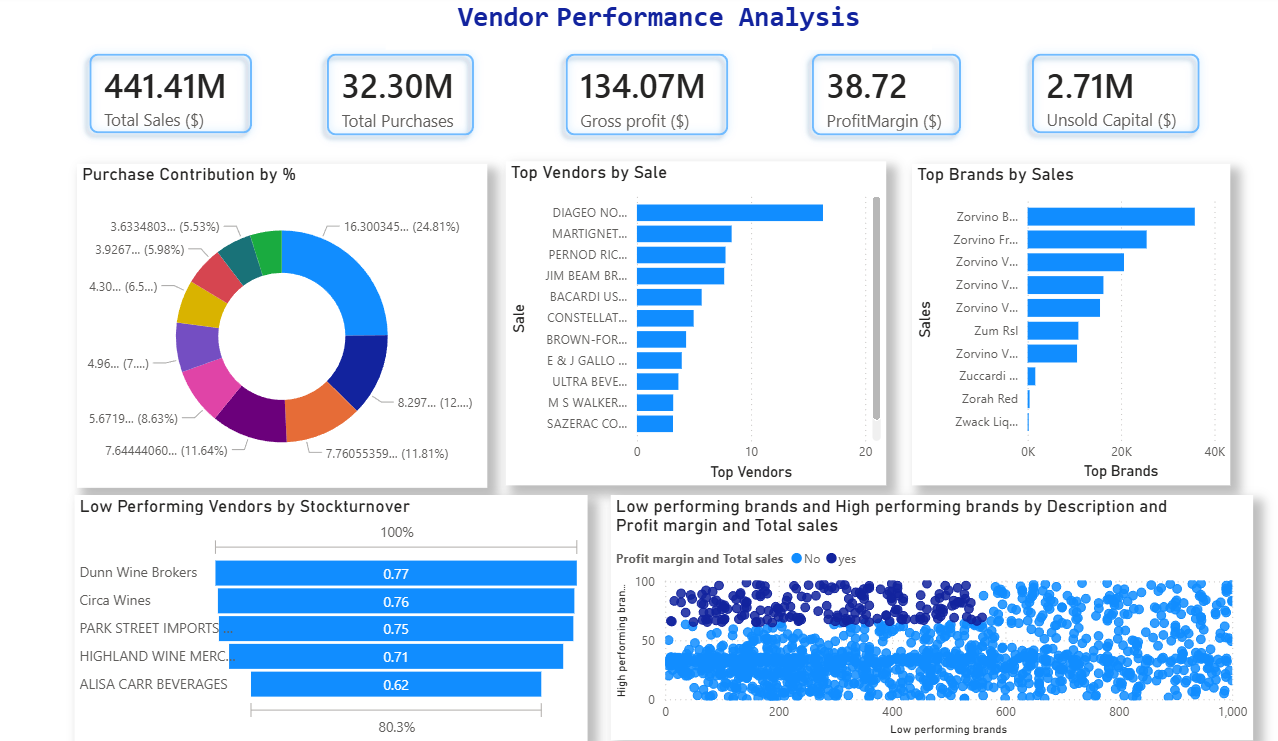

The page's visual inventory and layout, read from the dashboard file:
{"tool":"powerbi","page":{"name":"Page 1","canvas":[1280,720],"ordinal":0},"visuals":[{"type":"cardVisual","fields":{"Data":["Sum(vendor_sales_summary.TotalSalesDollars)"]},"box":[60,27.5,215,135],"z":0},{"type":"cardVisual","fields":{"Data":["Sum(vendor_sales_summary.TotalPurchaseQuantity)"]},"box":[290,27.5,200,137.5],"z":1000},{"type":"cardVisual","fields":{"Data":["Sum(vendor_sales_summary.GrossProfit)"]},"box":[520,27.5,215,137.5],"z":2000},{"type":"cardVisual","fields":{"Data":["Avg(vendor_sales_summary.ProfitMargin)"]},"box":[757.5,27.5,202.5,137.5],"z":3000},{"type":"cardVisual","fields":{"Data":["Sum(vendor_sales_summary.UnsoldCapital)"]},"box":[970,27.5,220,135],"z":3500},{"type":"donutChart","fields":{"Y":["Sum(PurchaseContribution.purchaseContribution%)"],"Category":["PurchaseContribution.VendorName"]},"box":[77.1,162.9,395.7,312.9],"z":4000},{"type":"clusteredBarChart","fields":{"Category":["PurchaseContribution.VendorName"],"Y":["Sum(PurchaseContribution.purchaseContribution%)"]},"box":[491.4,160,367.1,312.9],"z":6000},{"type":"clusteredBarChart","fields":{"Category":["vendor_sales_summary.Description"],"Y":["Sum(vendor_sales_summary.TotalSalesDollars)"]},"box":[882.9,162.9,307.1,310],"z":7000},{"type":"funnel","fields":{"Category":["Low_performing_vendors.VendorName"],"Y":["Avg(Low_performing_vendors.AvgStockturnover)"]},"box":[75,482.5,495,237.5],"z":8000},{"type":"scatterChart","fields":{"Category":["BrandPerformance.Description"],"X":["Sum(BrandPerformance.TotalSales)"],"Y":["Sum(BrandPerformance.AvgProfitMargin)"],"Series":["BrandPerformance.Target_Brand"]},"box":[592.9,482.9,620,237.1],"z":9000},{"type":"textbox","box":[375,0,527.5,52.5],"z":10000}]}

Visuals, with their boxes in screenshot pixels (x1, y1, x2, y2), scaled from the page's 1280x720 canvas onto the 1278x741 screenshot:
cardVisual - Sum(vendor_sales_summary.TotalSalesDollars): 60/28/275/167
cardVisual - Sum(vendor_sales_summary.TotalPurchaseQuantity): 290/28/489/170
cardVisual - Sum(vendor_sales_summary.GrossProfit): 519/28/734/170
cardVisual - Avg(vendor_sales_summary.ProfitMargin): 756/28/958/170
cardVisual - Sum(vendor_sales_summary.UnsoldCapital): 968/28/1188/167
donutChart - Sum(PurchaseContribution.purchaseContribution%) x PurchaseContribution.VendorName: 77/168/472/490
clusteredBarChart - PurchaseContribution.VendorName x Sum(PurchaseContribution.purchaseContribution%): 491/165/857/487
clusteredBarChart - vendor_sales_summary.Description x Sum(vendor_sales_summary.TotalSalesDollars): 882/168/1188/487
funnel - Low_performing_vendors.VendorName x Avg(Low_performing_vendors.AvgStockturnover): 75/497/569/740
scatterChart - BrandPerformance.Description x Sum(BrandPerformance.TotalSales): 592/497/1211/740
textbox: 374/0/901/54
